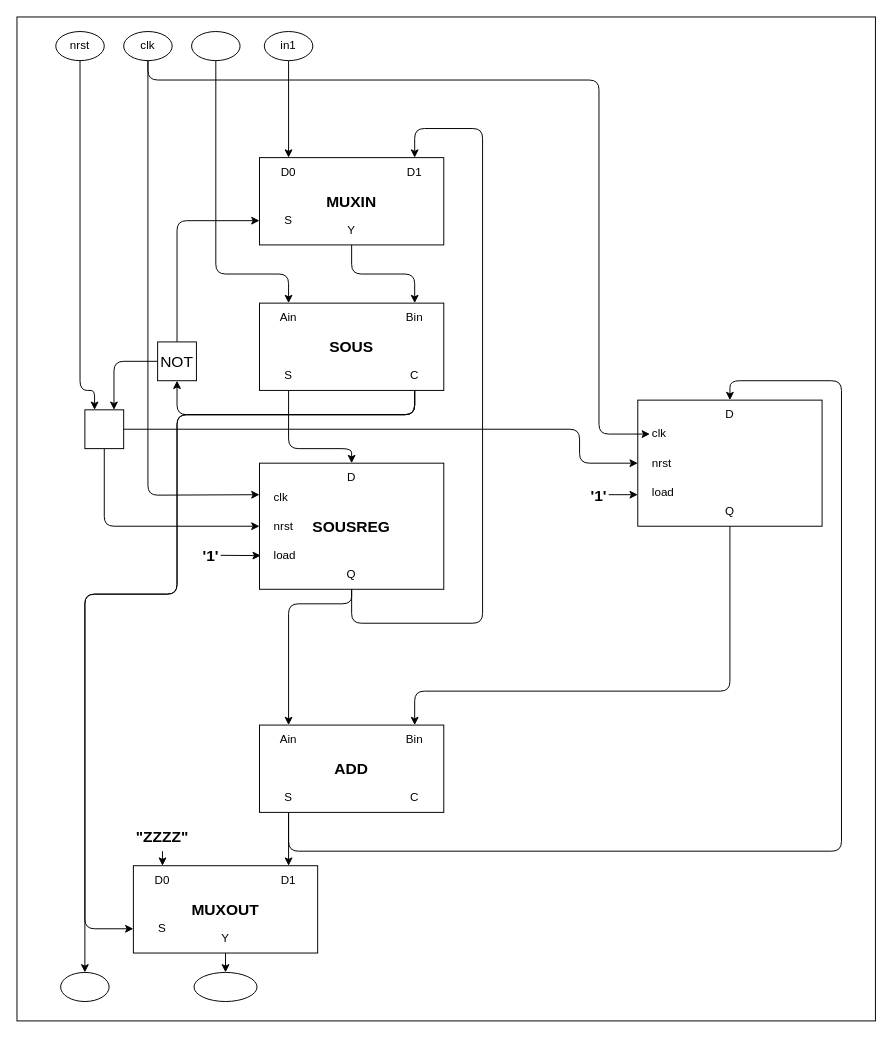
This 892x1038 diagram has some shape labels left out. The shapes that lost their labels are listed below. From the top down, each one's box as (x1, y1, x2, y2) in pixels, then its label:
(191, 31, 240, 61): in2
(84, 409, 124, 449): AND
(637, 399, 822, 526): ADDREG
(60, 971, 109, 1002): done
(193, 971, 257, 1002): sumout
